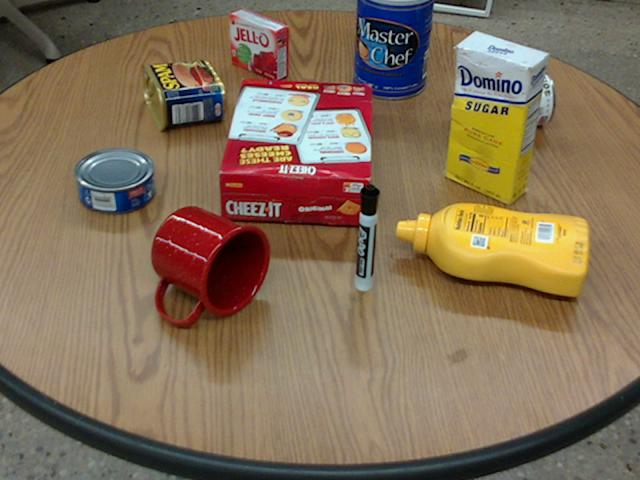cracker_box: (217, 80, 370, 226)
gelatin_box: (229, 8, 288, 79)
large_marker: (354, 184, 378, 291)
master_chef_can: (353, 0, 434, 98)
mug: (148, 207, 268, 323)
mustard_bottle: (396, 202, 587, 295)
potted_meat_can: (141, 60, 224, 128)
sugar_box: (447, 31, 547, 204)
tomato_soup_can: (460, 71, 554, 129)
tuna_fish_can: (73, 147, 153, 212)
